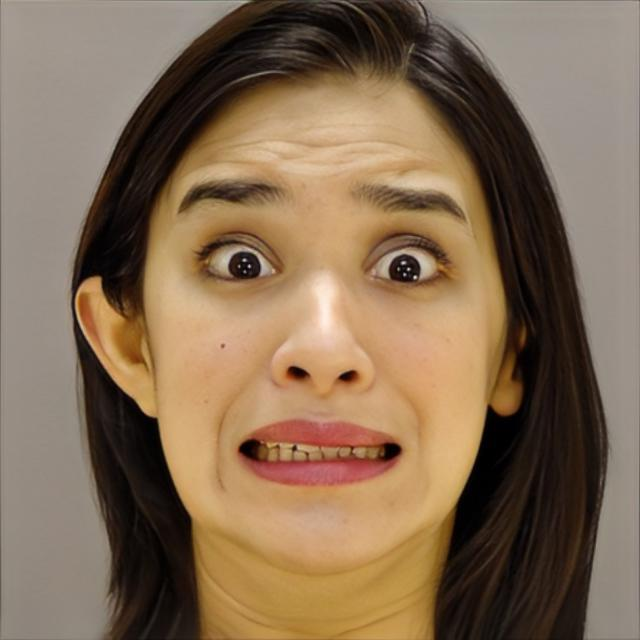fear: (142, 61, 508, 578)
